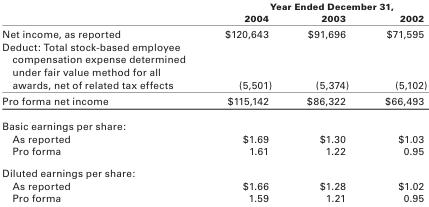table: (1, 0, 426, 203)
table column: (1, 0, 204, 203), (204, 0, 288, 203), (288, 0, 366, 203), (366, 0, 426, 203)
table column header: (1, 0, 426, 25)
table projected row header: (1, 113, 426, 132), (1, 161, 426, 178)
table row: (1, 39, 426, 92), (1, 92, 426, 113), (1, 113, 426, 132), (1, 144, 426, 161), (1, 161, 426, 178), (1, 11, 426, 25), (1, 25, 426, 39), (1, 178, 426, 191), (1, 132, 426, 144), (1, 191, 426, 203), (1, 0, 426, 11)
table spanning cell: (204, 0, 426, 11)
